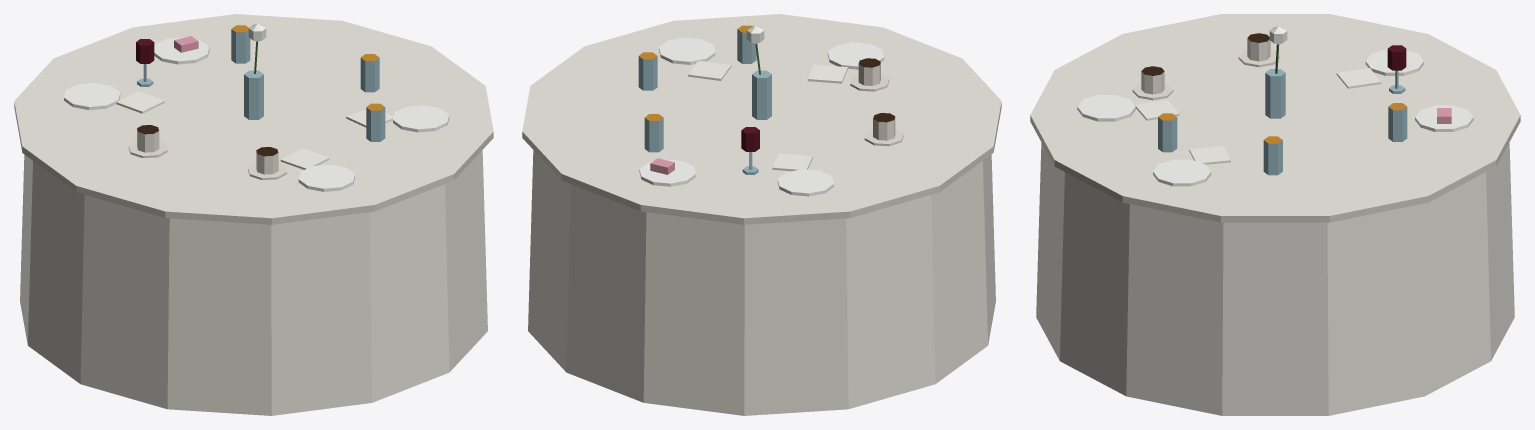
Rendered from Table3.obj.
3 views of the same model, side by side, from view 1: azimuth 30°, elevation 25°; view 2: azimuth 150°, elevation 25°; view 3: azimuth 270°, elevation 25° (orthographic).
Parts seen in each view (by area): view 1: Table3; view 2: Table3; view 3: Table3.
Part boxes in pixels (x1,y1,x2,y2): Table3: (14,14,493,415); Table3: (522,14,1001,415); Table3: (1030,14,1520,415).
Bounding box in the file's own units: 1.64 × 1.11 × 1.68.
1 material, 1 textured.
